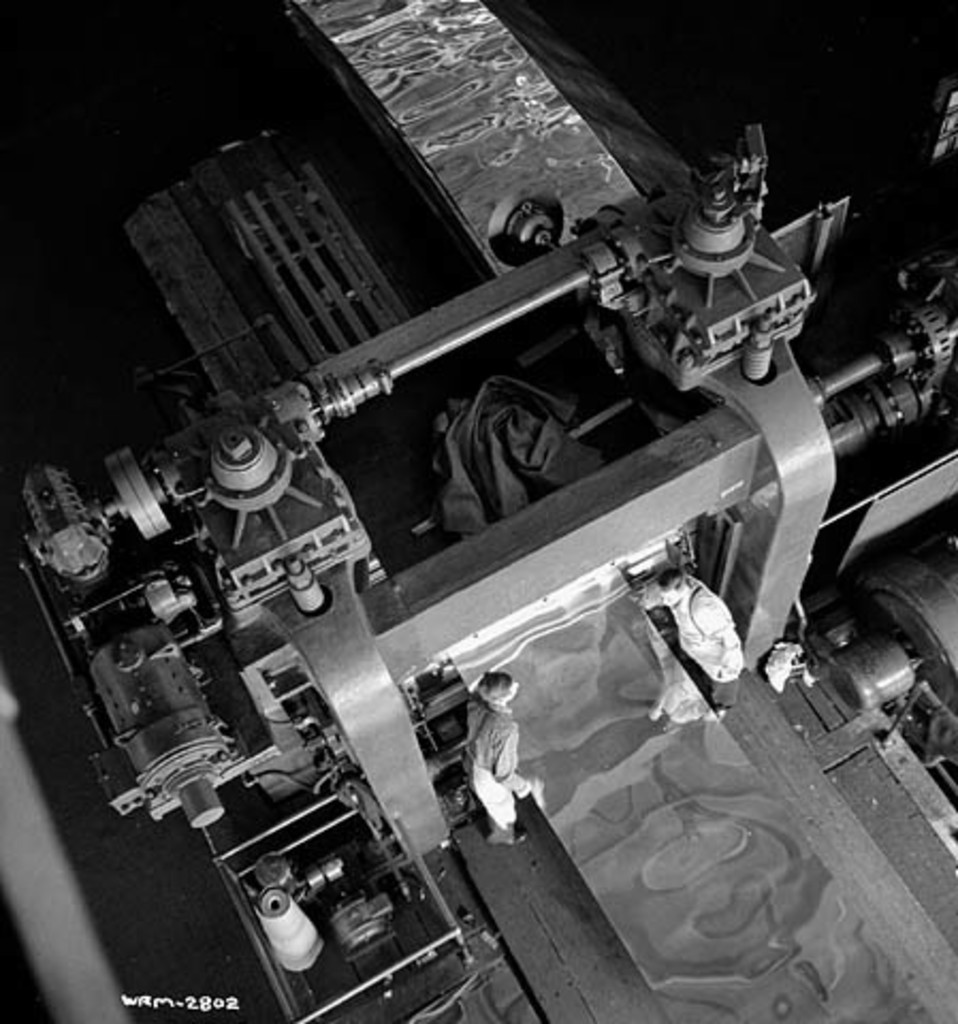Footwear: (489, 826, 527, 851)
